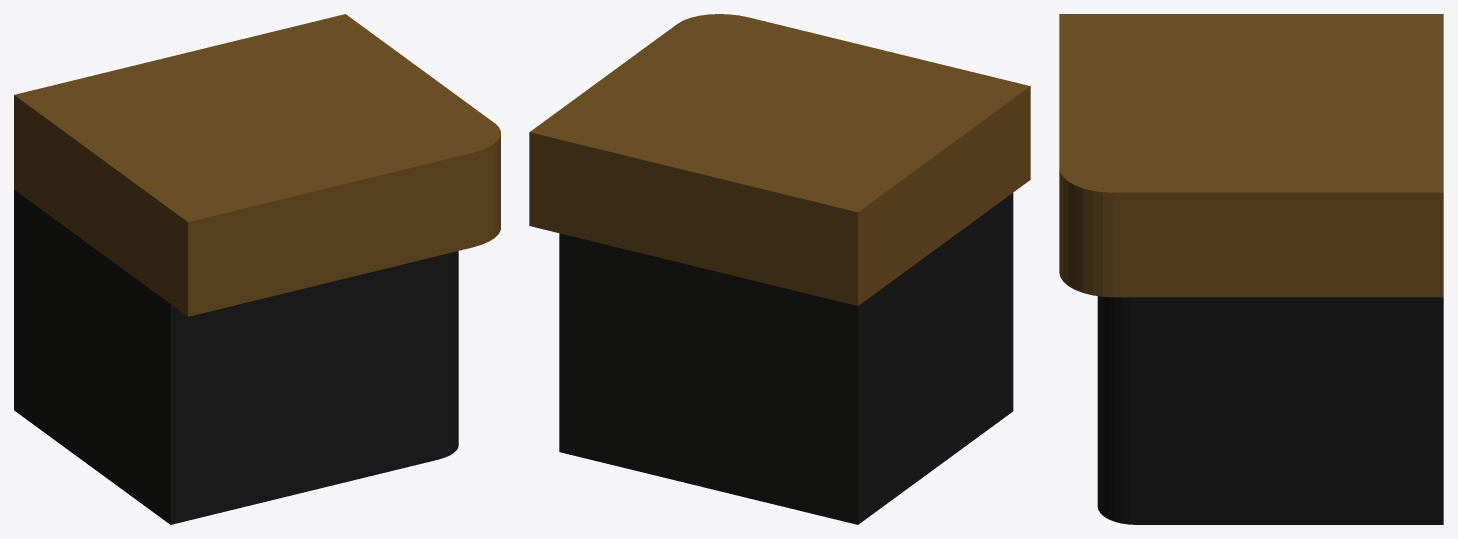
The model's file is conveyor starttt.fbx.
The picture shows the model from 3 angles, left to right: view 1: azimuth 30°, elevation 25°; view 2: azimuth 150°, elevation 25°; view 3: azimuth 270°, elevation 25°; orthographic projection. The views are drawn at different scales.
Parts seen in each view (by area): view 1: Cube, Cube.002; view 2: Cube, Cube.002; view 3: Cube, Cube.002.
Boxes of the visible parts, <box> form: Cube: <box>14,14,500,316</box>; Cube.002: <box>14,190,458,524</box>; Cube: <box>529,14,1030,305</box>; Cube.002: <box>559,193,1013,524</box>; Cube: <box>1059,14,1443,297</box>; Cube.002: <box>1097,296,1443,524</box>.
Size of the model in its own units: 220 by 200 by 200.
